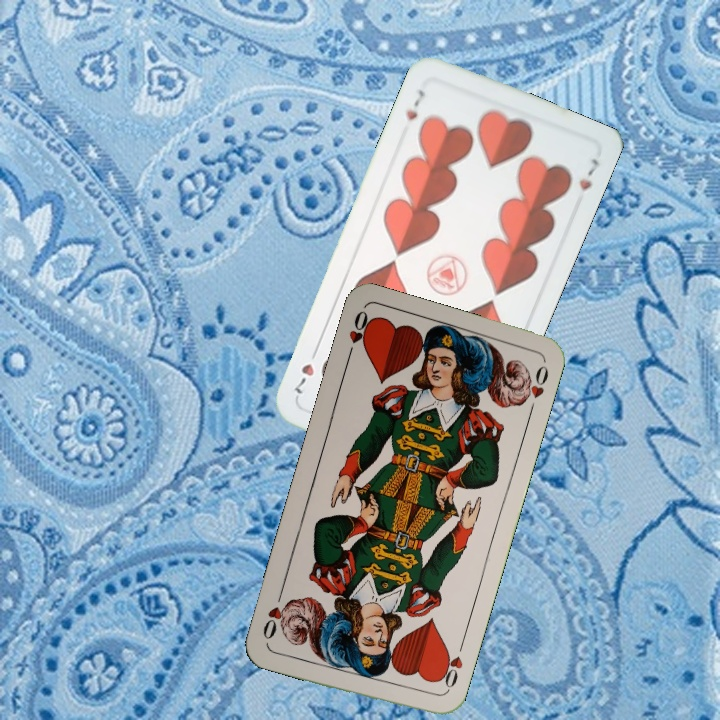H7: (402, 86, 429, 123)
HO: (342, 306, 376, 364), (434, 638, 467, 696)
